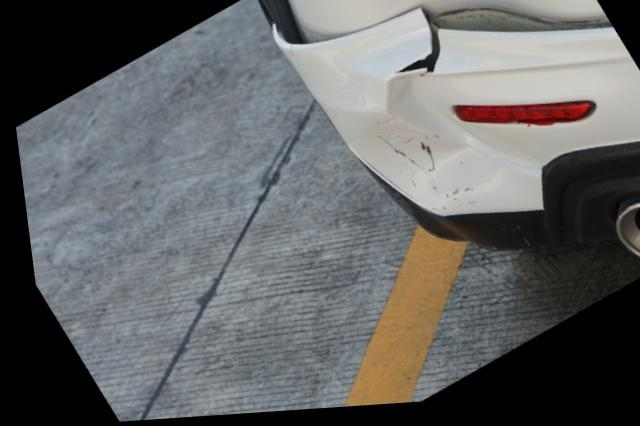crack: (392, 31, 439, 81)
dent: (348, 118, 497, 217), (409, 0, 590, 28)
